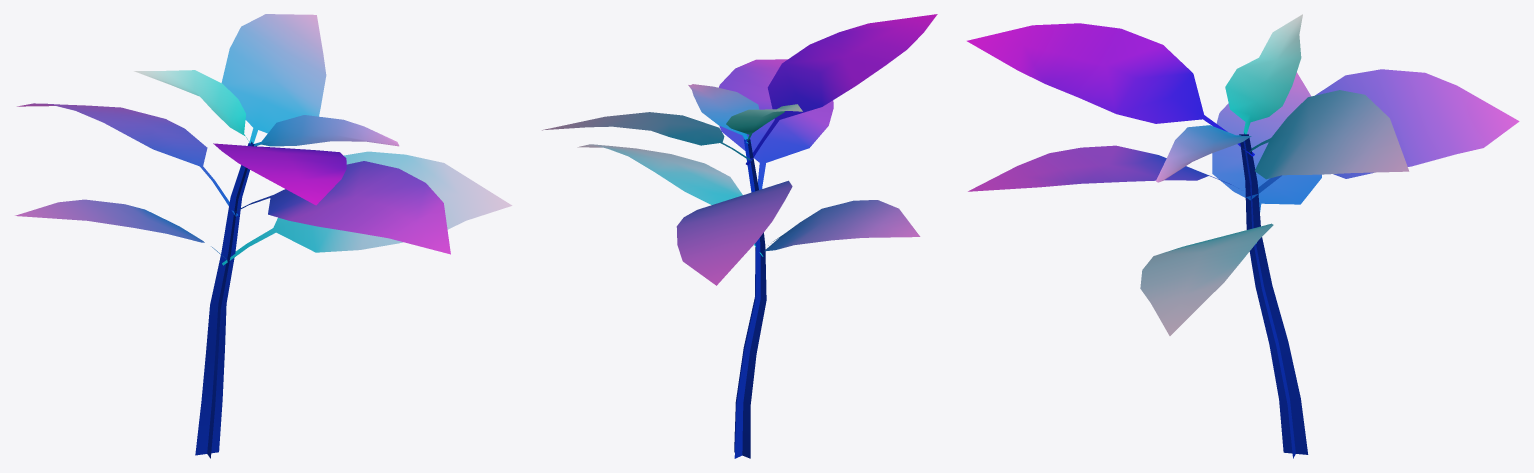
The model's file is Common_Hemp_Nettle_xh1kdfbqx_Mid_xh1kdfbqx_VarA_LOD0.fbx.
3 renders of one model, left to right at view 1: azimuth 30°, elevation 25°; view 2: azimuth 150°, elevation 25°; view 3: azimuth 270°, elevation 25°, orthographic. The views are drawn at different scales.
Visible parts, largest first — view 1: _u1p9_VarA_LOD1; view 2: _u1p9_VarA_LOD1; view 3: _u1p9_VarA_LOD1.
Part boxes in pixels (left/top/right/bottom): _u1p9_VarA_LOD1: left=15, top=14, right=512, bottom=458; _u1p9_VarA_LOD1: left=542, top=14, right=937, bottom=458; _u1p9_VarA_LOD1: left=967, top=14, right=1519, bottom=458.
Size of the model in its own units: 43.57 by 37.81 by 46.83.
